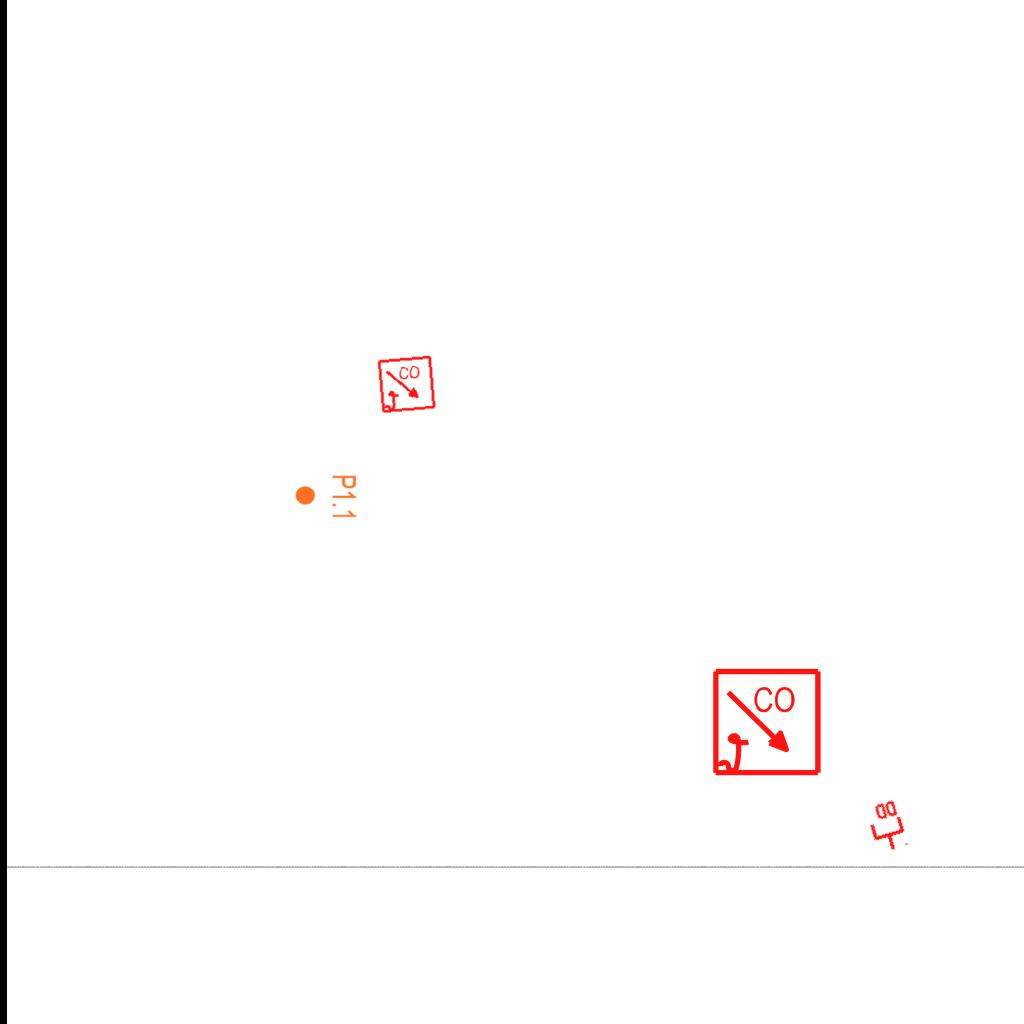Datenanschluss_zweifach: (862, 797, 910, 856)
Downlight_LED_Einbauleuchten_Flur: (294, 474, 358, 520)
ROA_Rauchmelder_optisch_mit_Signalgeber_(Sockelsirene): (711, 667, 824, 780), (376, 354, 438, 416)
